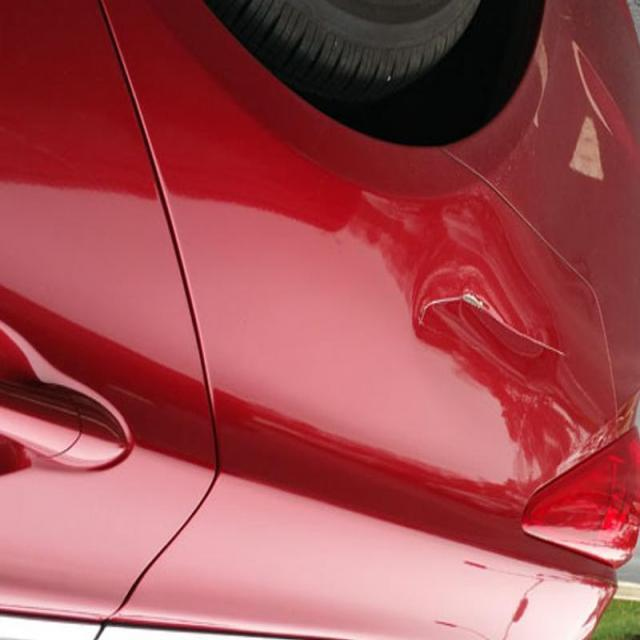dent: (412, 280, 568, 372)
